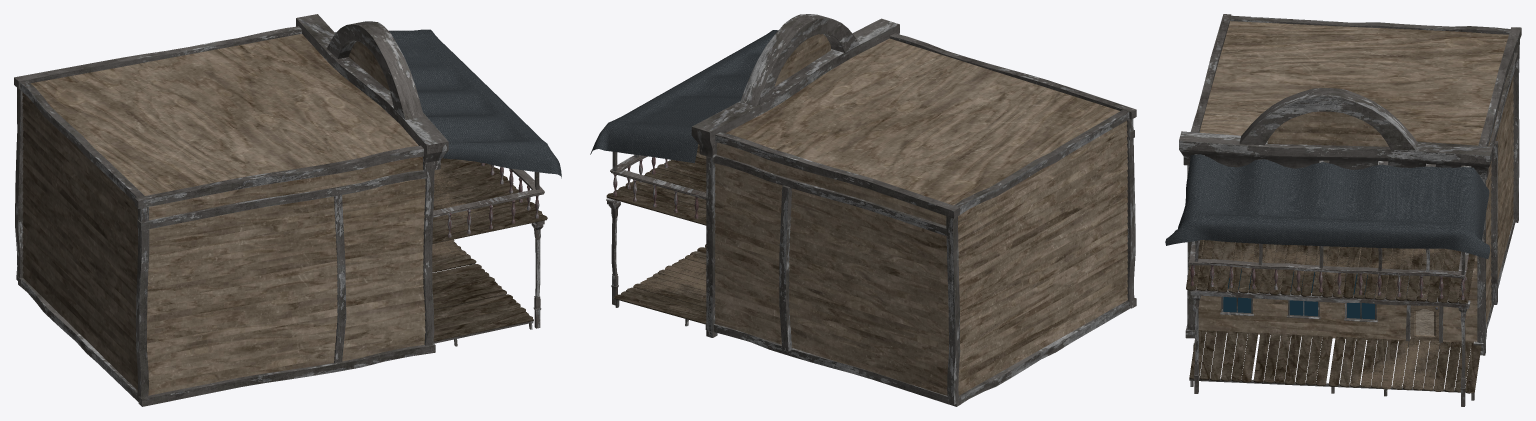
The model's file is Hotel 2.fbx.
The picture shows the model from 3 angles, left to right: view 1: azimuth 30°, elevation 25°; view 2: azimuth 150°, elevation 25°; view 3: azimuth 270°, elevation 25°; orthographic projection. The views are drawn at different scales.
Visible parts, largest first — view 1: polySurface2580; view 2: polySurface2580; view 3: polySurface2580.
Part boxes in pixels (bbox=[...]): polySurface2580: bbox=[14, 14, 561, 406]; polySurface2580: bbox=[590, 14, 1136, 406]; polySurface2580: bbox=[1165, 14, 1521, 406].
Size of the model in its own units: 1605 by 970 by 1214.
